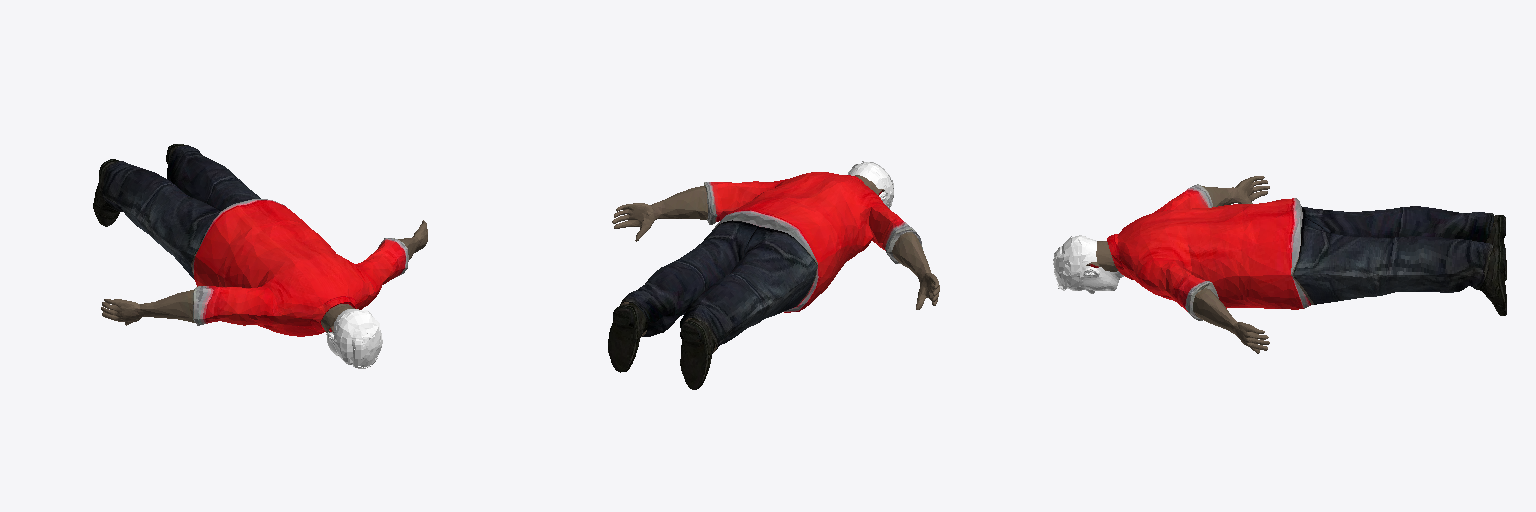
3 views of the same model, side by side, from view 1: azimuth 30°, elevation 25°; view 2: azimuth 150°, elevation 25°; view 3: azimuth 270°, elevation 25° (orthographic).
Visible parts, largest first — view 1: Object.1; view 2: Object.1; view 3: Object.1.
Boxes of the visible parts, box(x1,y1,x2,y2) form: Object.1: box(93, 144, 427, 368); Object.1: box(608, 161, 939, 389); Object.1: box(1053, 176, 1506, 353).
Size of the model in its own units: 61.01 by 17.42 by 74.44.
3 materials, 1 textured.